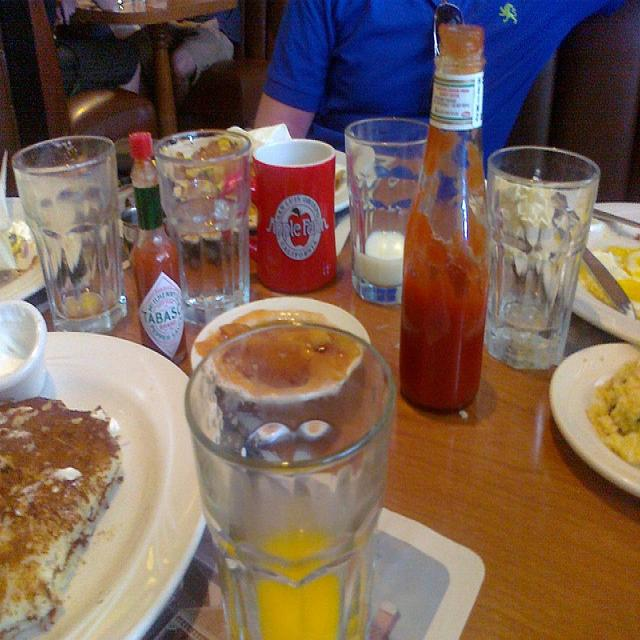chair: (0, 0, 162, 145), (540, 9, 637, 200), (188, 58, 272, 128)
dining table: (114, 242, 639, 631)
